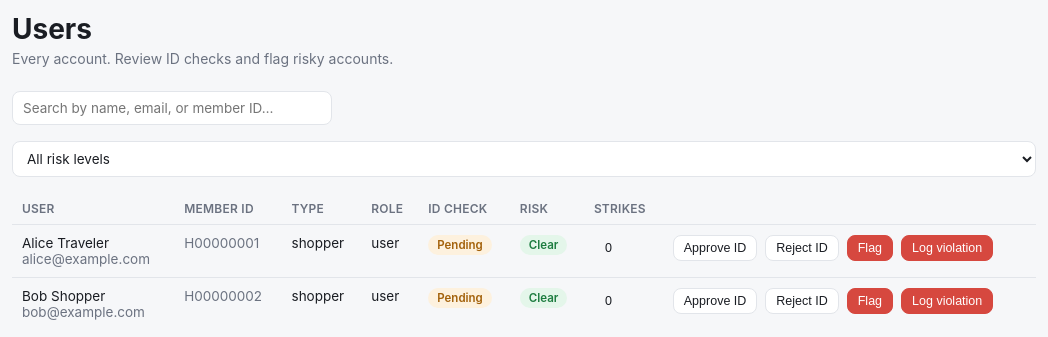
Test: UsersPage › finds a user by their membership ID alone
Expected: the text "Alice Traveler" is shown, [22,235,109,251]
Type "H00000002" into the field with placeholder "Search by name, email, or member ID…" at [172, 108], box [12,91,332,125]
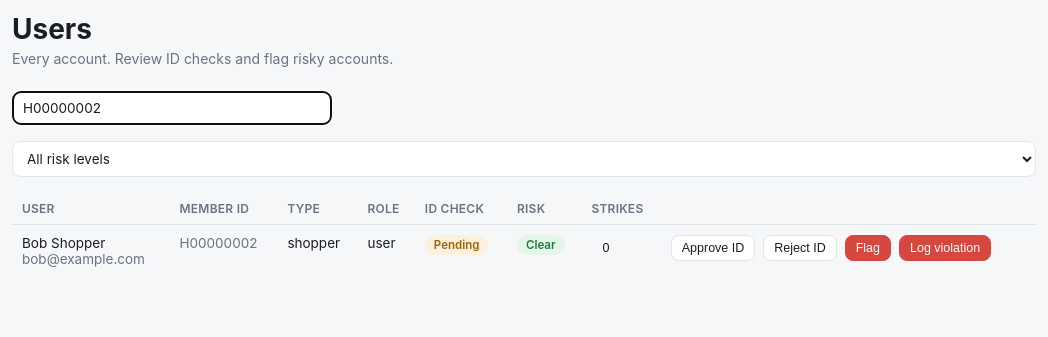
Expected: the text "Bob Shopper" is shown, [22,235,105,251]
Expected: the text "Alice Traveler" is gone
